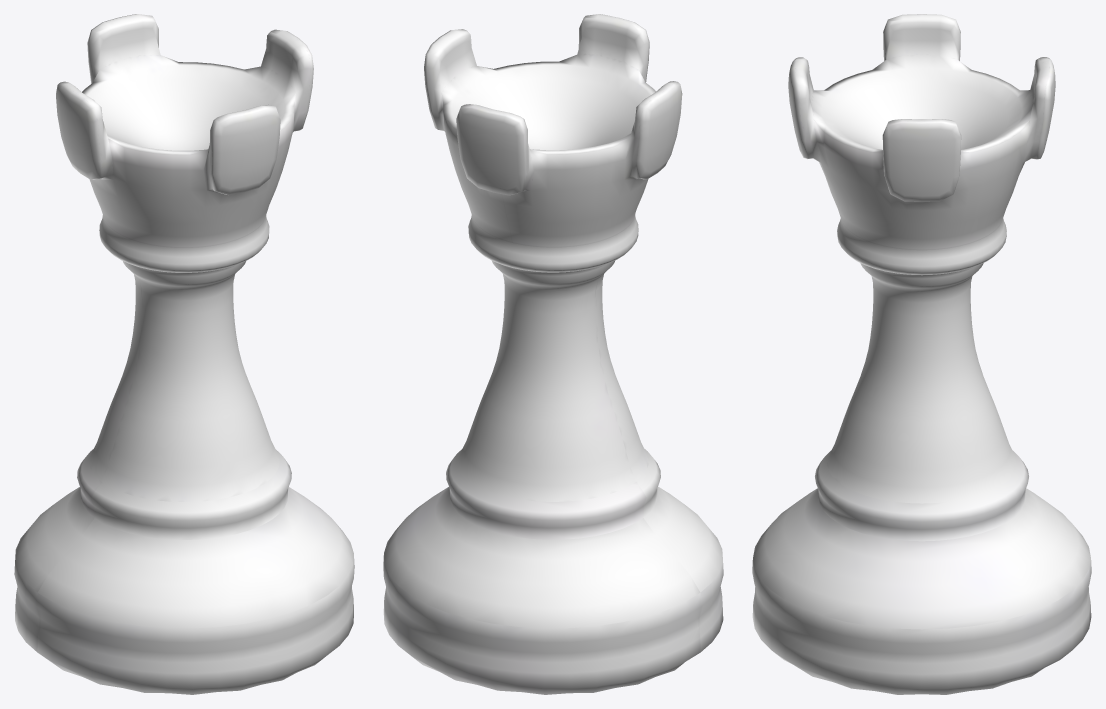
The model's file is Torre_Blanco.glb.
3 views of the same model, side by side, from view 1: azimuth 30°, elevation 25°; view 2: azimuth 150°, elevation 25°; view 3: azimuth 270°, elevation 25° (orthographic).
Visible parts, largest first — view 1: castillo_b.001; view 2: castillo_b.001; view 3: castillo_b.001.
Boxes of the visible parts, x1,y1,x2,y2 form: castillo_b.001: (14,14,354,694); castillo_b.001: (383,14,723,694); castillo_b.001: (752,14,1091,694).
Size of the model in its own units: 0.7819 by 1.43 by 0.7819.
1 material, 1 textured.
